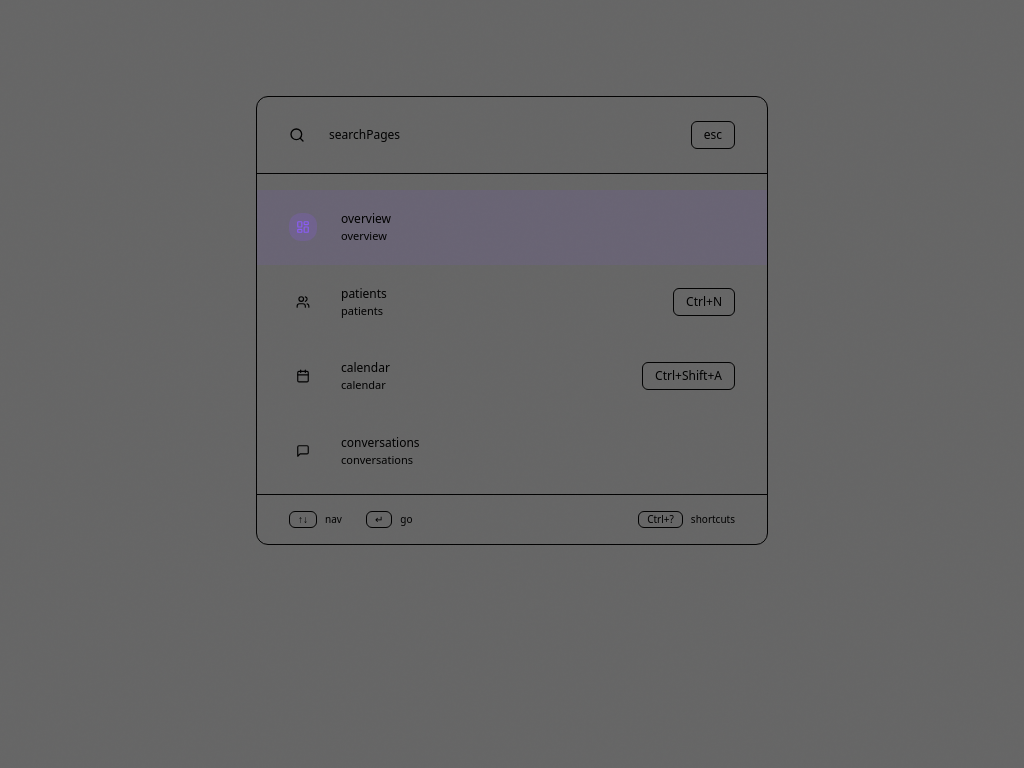
Scenario: CommandPalette › shows empty state when no results match
Type "zzz_nonexistent" into the field with placeholder "searchPages". click: (498,135)
box: [329,127,667,143]
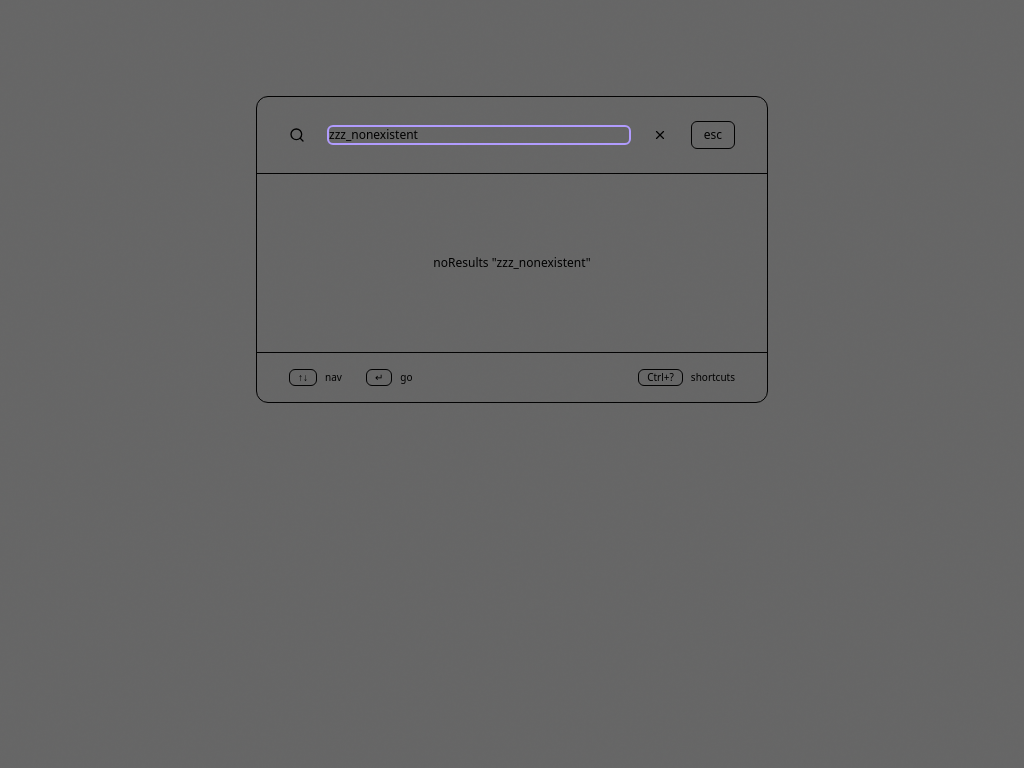
Expected: the list item "noResults \"zzz_nonexistent\"" is shown, [433,254,591,271]
